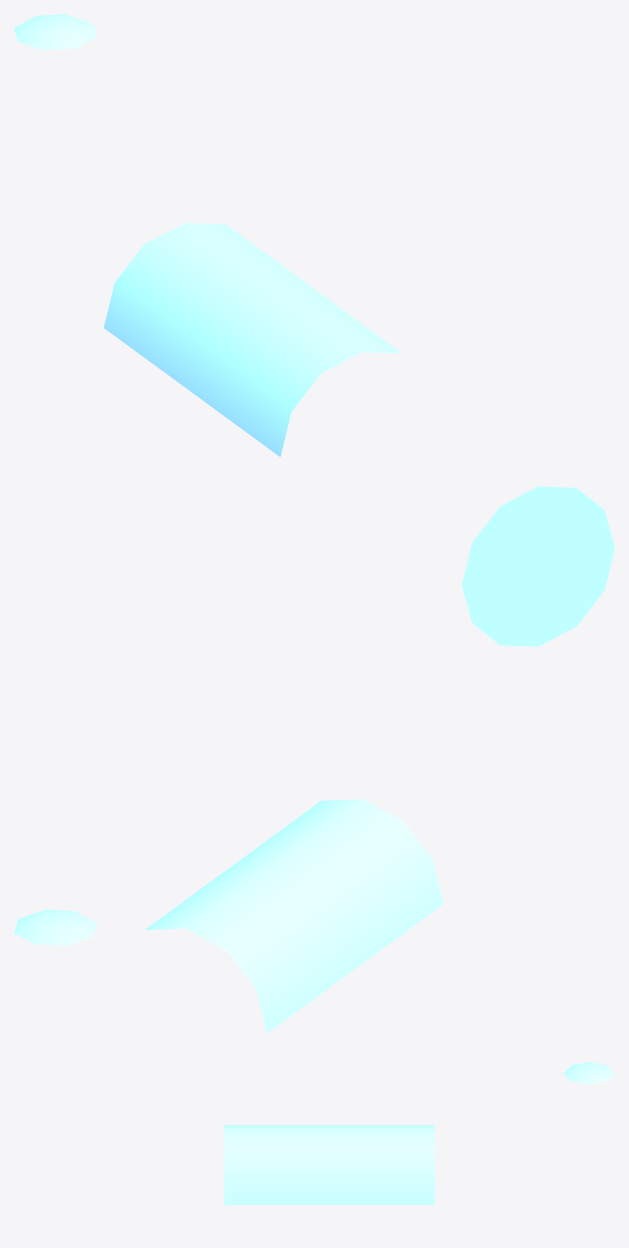
File: portalGunBlueGlow.glb
3 views of the same model, one above another, from view 1: azimuth 30°, elevation 25°; view 2: azimuth 150°, elevation 25°; view 3: azimuth 270°, elevation 25° (orthographic). The views are drawn at different scales.
Parts seen in each view (by area): view 1: blueGlow; view 2: blueGlow; view 3: blueGlow.
Boxes of the visible parts, x1=… form: blueGlow: x1=14, y1=14, x2=614, y2=646; blueGlow: x1=14, y1=799, x2=443, y2=1033; blueGlow: x1=224, y1=1062, x2=614, y2=1204.
Bounding box in the file's own units: 0.1638 × 0.2578 × 0.8778.
